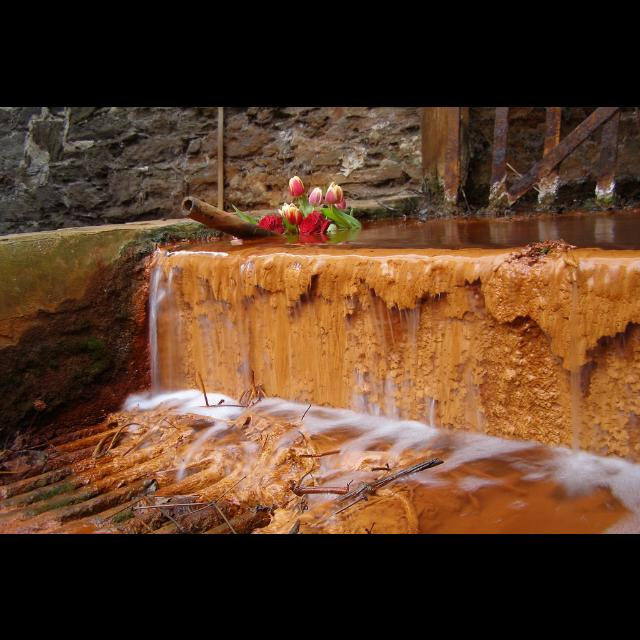Flower: (300, 210, 332, 234), (279, 200, 303, 226), (258, 212, 286, 232), (326, 177, 344, 203), (288, 173, 306, 194), (308, 186, 324, 207)
